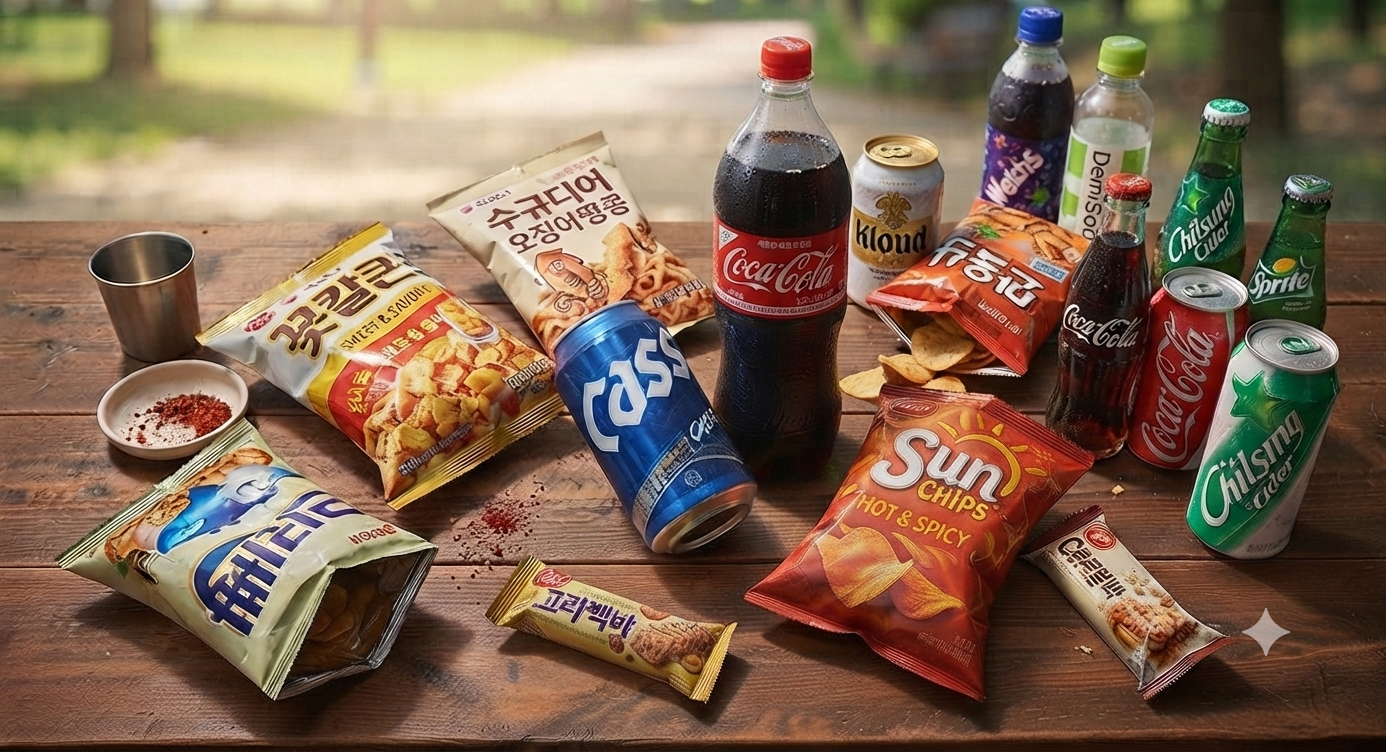beer-bottle: (714, 79, 825, 462)
beer-can: (530, 297, 731, 538), (828, 120, 932, 331)
